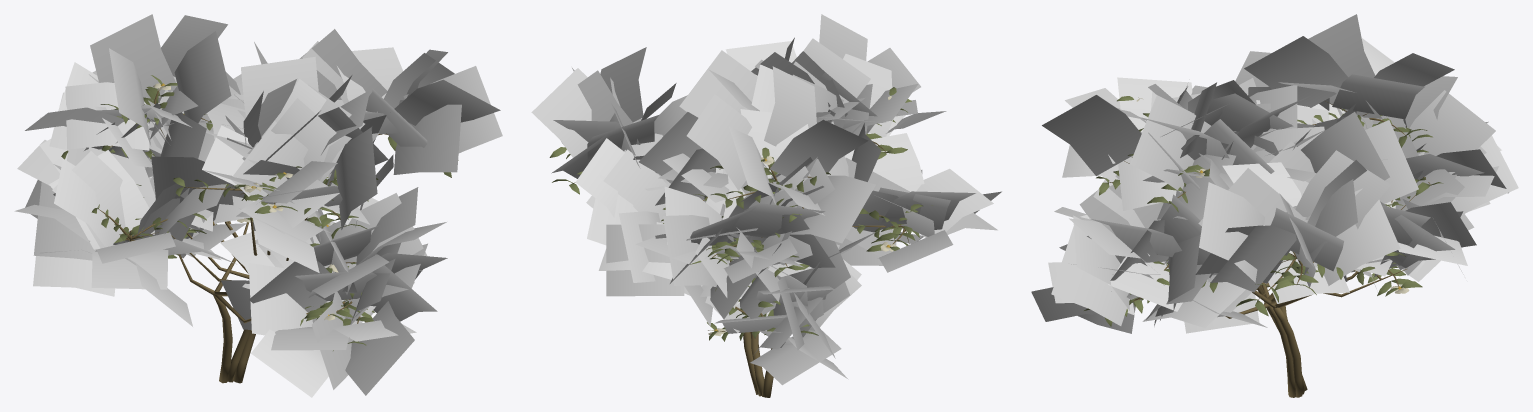
The model's file is Ciste_Dense_LOD0.fbx.
3 views of the same model, side by side, from view 1: azimuth 30°, elevation 25°; view 2: azimuth 150°, elevation 25°; view 3: azimuth 270°, elevation 25° (orthographic). The views are drawn at different scales.
Parts seen in each view (by area): view 1: Ciste_Dense; view 2: Ciste_Dense; view 3: Ciste_Dense.
Boxes of the visible parts, x1,y1,x2,y2 form: Ciste_Dense: (14, 14, 502, 397); Ciste_Dense: (531, 14, 1001, 397); Ciste_Dense: (1031, 14, 1518, 397).
Size of the model in its own units: 160 by 123 by 154.
